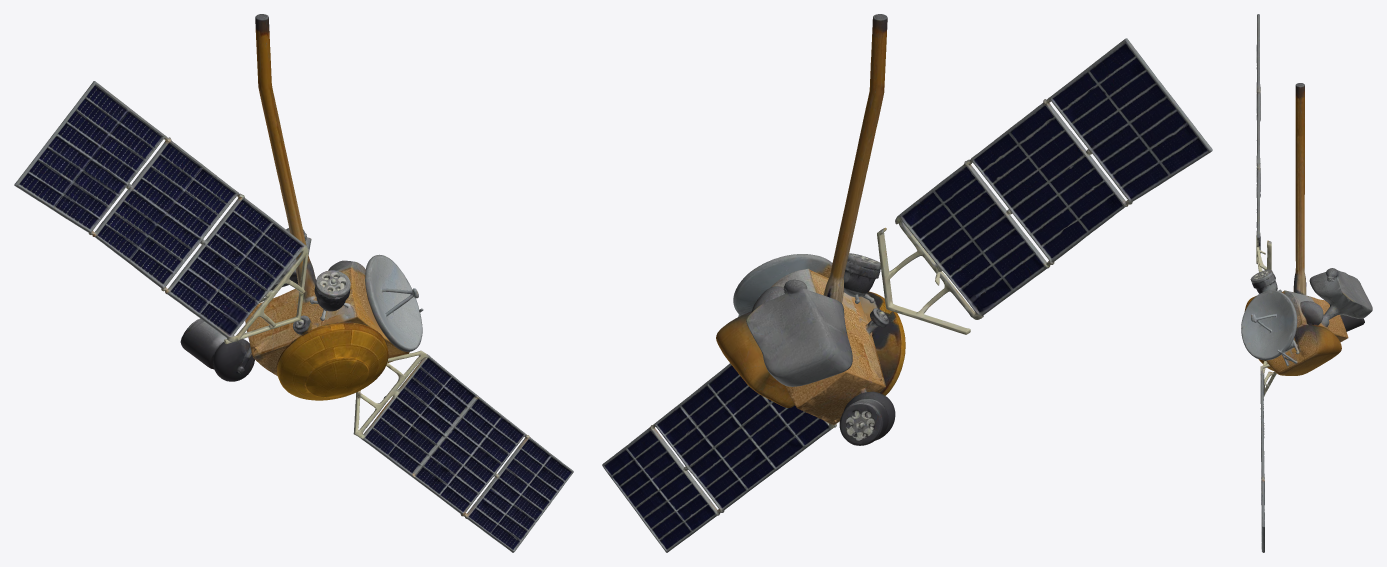
The model's file is imim.glb.
The picture shows the model from 3 angles, left to right: view 1: azimuth 30°, elevation 25°; view 2: azimuth 150°, elevation 25°; view 3: azimuth 270°, elevation 25°; orthographic projection. The views are drawn at different scales.
Bounding box in the file's own units: 1.9 × 1.87 × 0.5607.
Materials: 1 (1 with a texture image).
